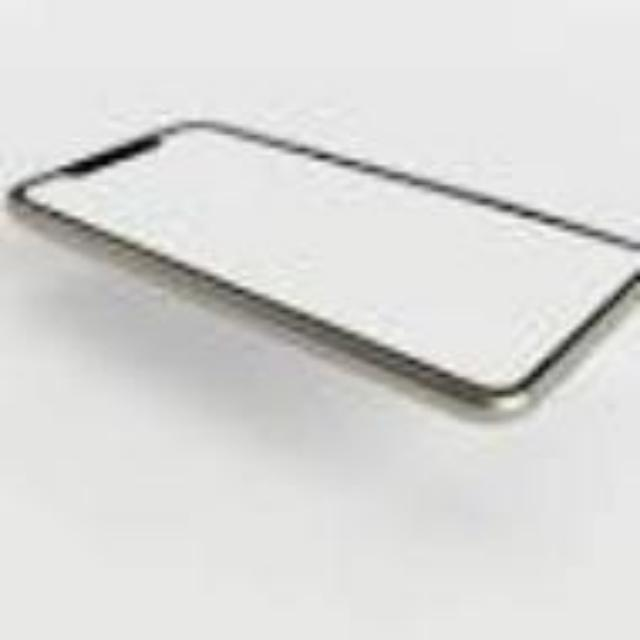phone: (6, 60, 636, 436)
